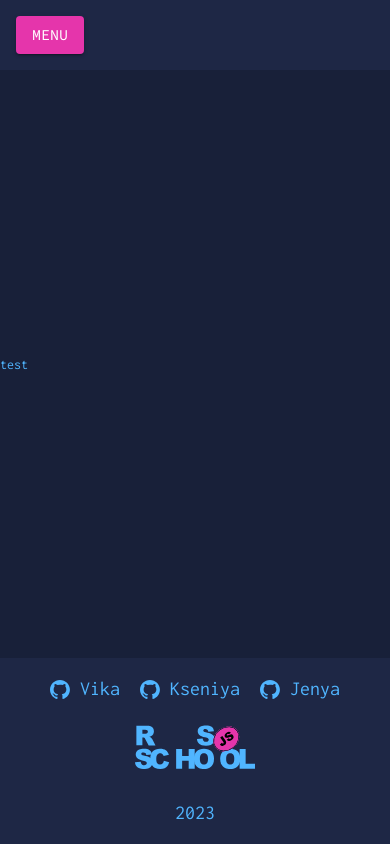
Test: Header › opens and closes burger menu when burger button is clicked
The width and height of the screenshot is (390, 844).
Click the button "Menu".
click(50, 35)  # box left=16, top=16, right=84, bottom=54
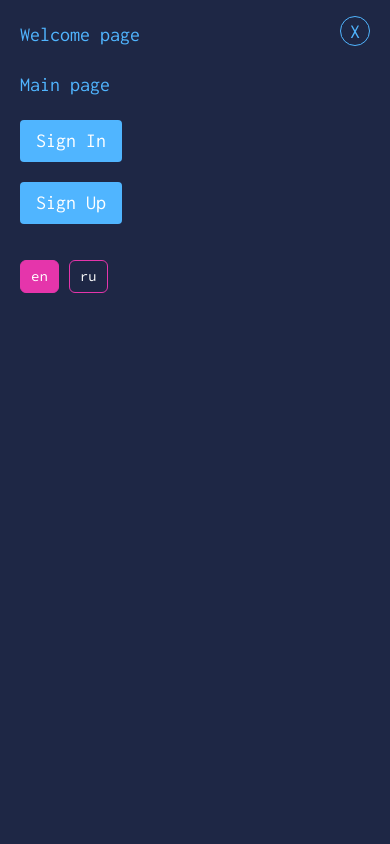
Result: the button "X" is shown
Click the button "X".
click(355, 31)  # box left=340, top=16, right=370, bottom=46
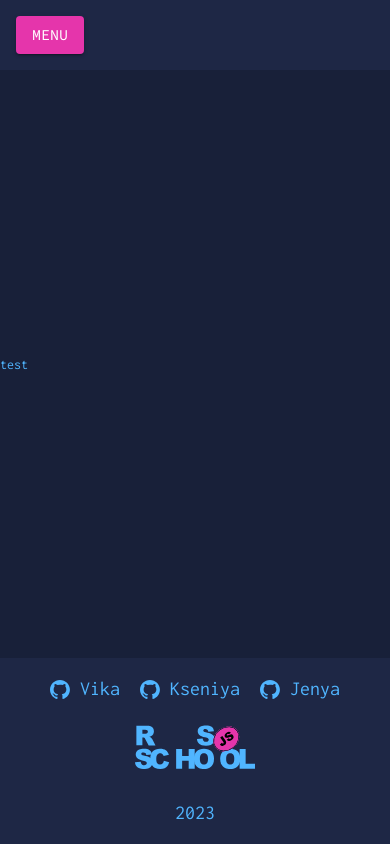
Result: the button "X" is gone
